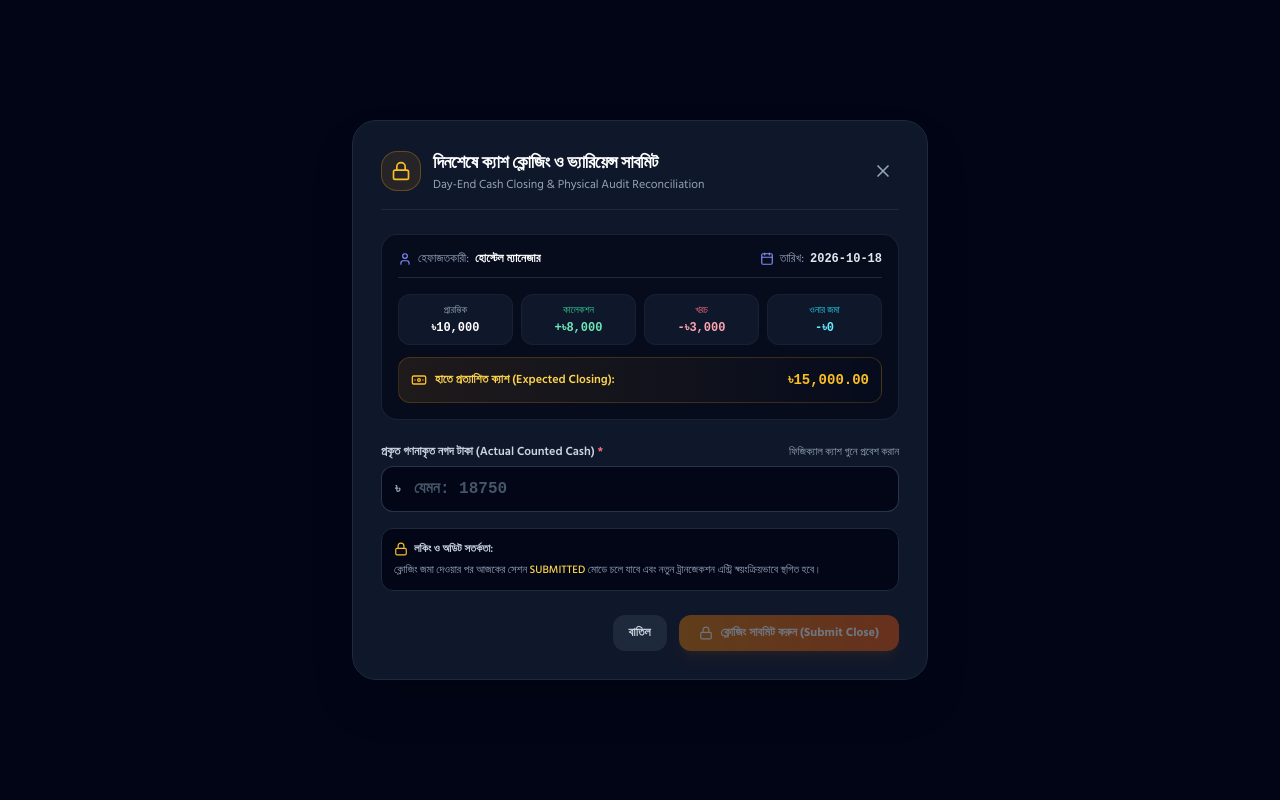
DailyClosingModal.test.tsx - Variance Enforcement & Mandatory Explanation › disables submit button if variance != 0 and explanation is empty (PRD §15.1 enforcement)
Type "14500" into the number field at x=640, y=489, box x1=381 y1=466 x2=899 y2=512
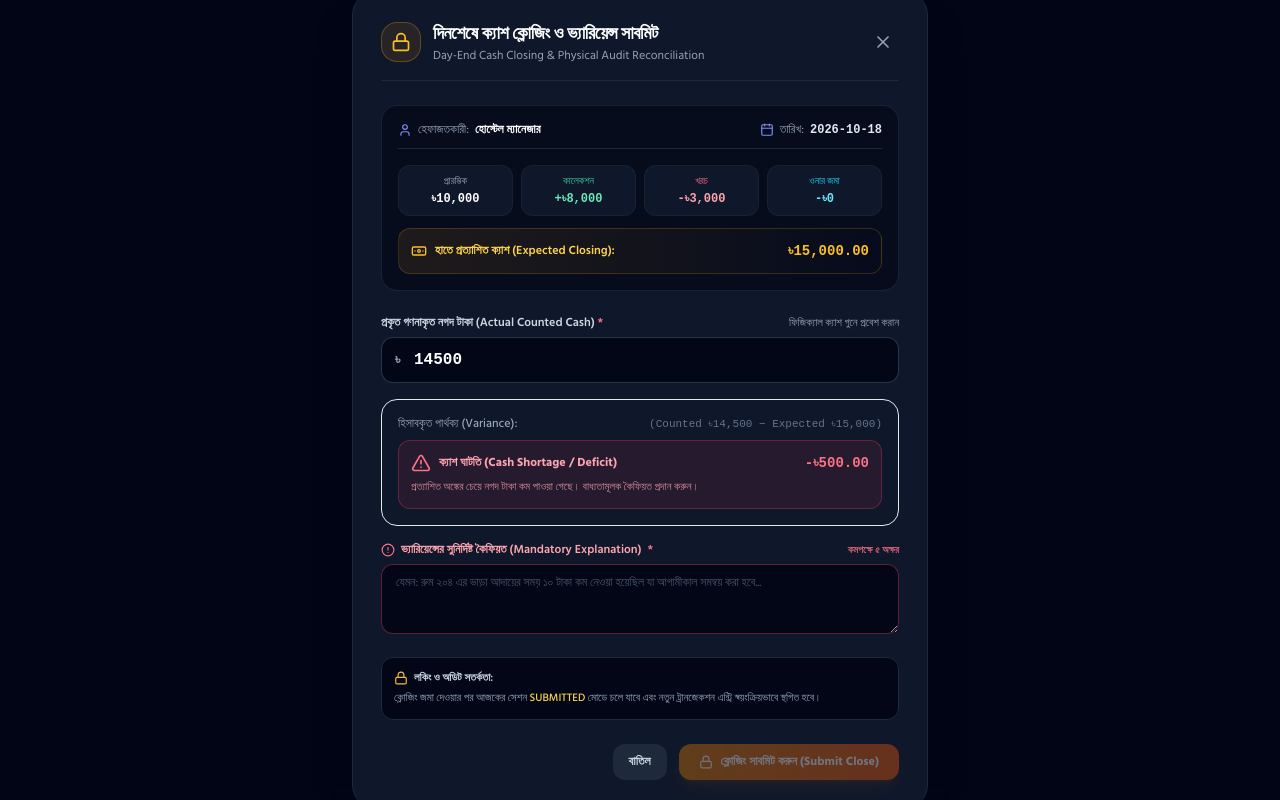
expect the button "ক্লোজিং সাবমিট করুন (Submit Close)" is disabled: met, box x1=678 y1=744 x2=899 y2=780
expect the text "ক্যাশ ঘাটতি (Cash Shortage / Deficit)" is shown: met, box x1=439 y1=455 x2=617 y2=471
